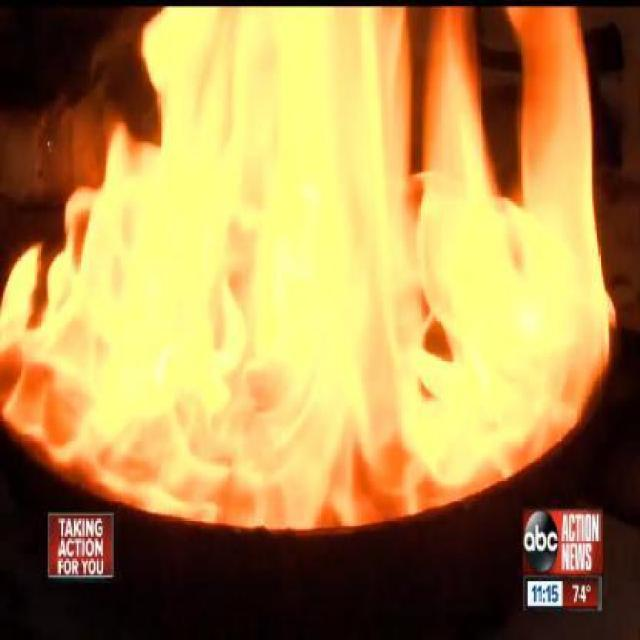Fire: (0, 0, 615, 527)
